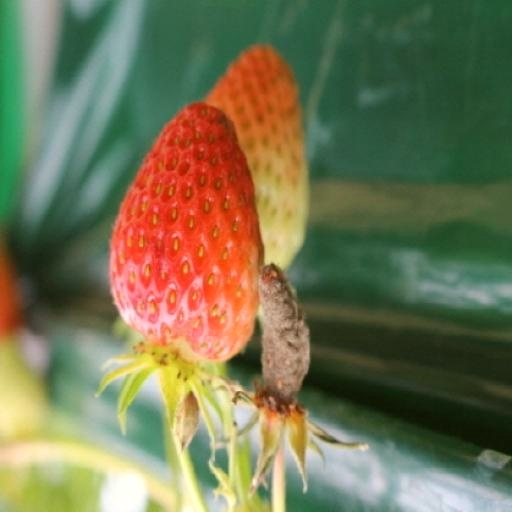Gray Mold: (254, 92, 312, 250)
